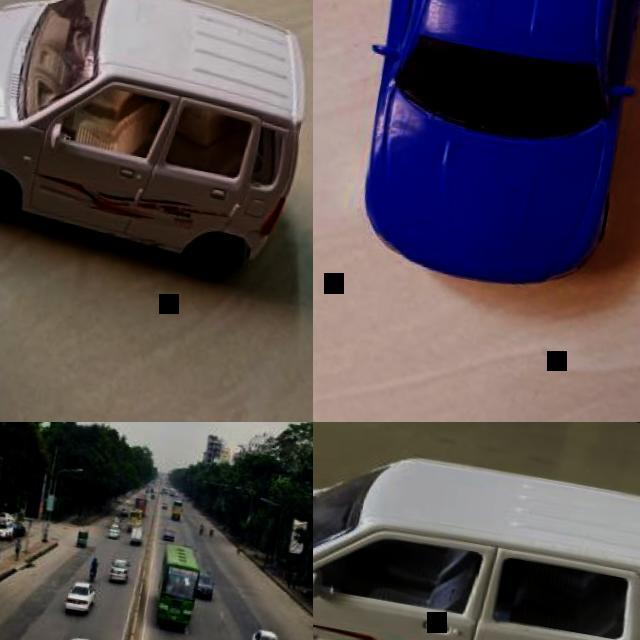car: (4, 0, 307, 278), (307, 461, 639, 639), (0, 418, 163, 638), (64, 582, 95, 617)
